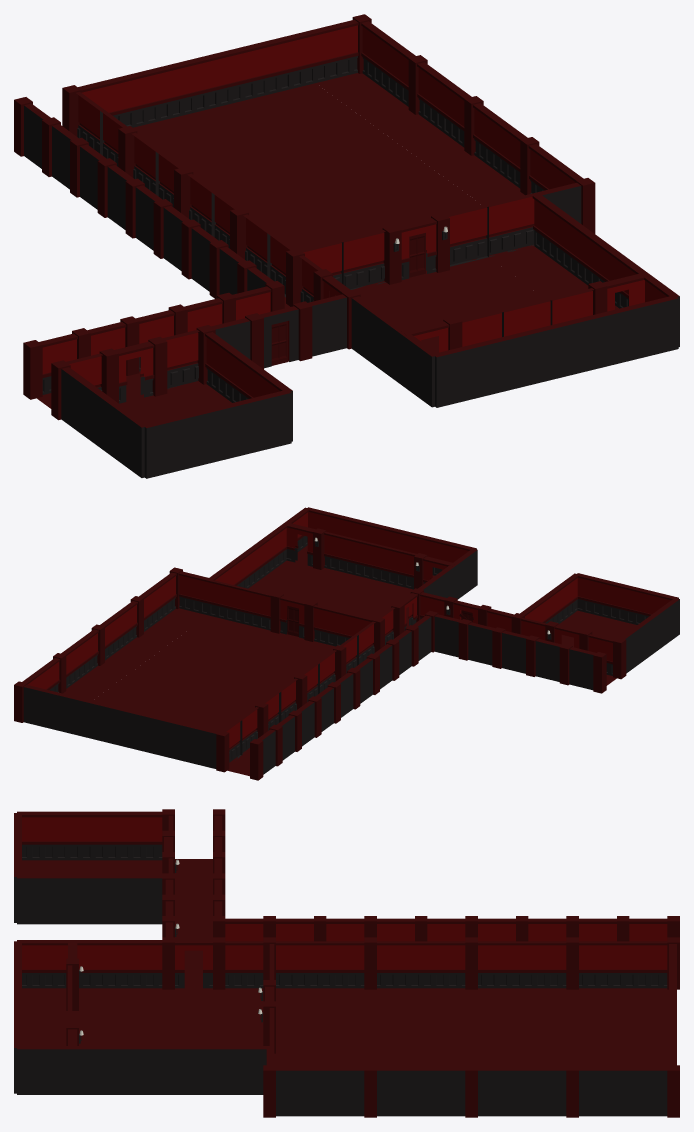
The model's file is PuzzlePortaJoin.glb.
3 views of the same model, one above another, from view 1: azimuth 30°, elevation 25°; view 2: azimuth 150°, elevation 25°; view 3: azimuth 270°, elevation 25° (orthographic). The views are drawn at different scales.
Parts seen in each view (by area): view 1: ChaoSalao, ParedeSalao_001, ParedeCorredor_002, ParedeRecepcao_005, ParedeSalao_004, ParedeRecepcao_001, ChaoRecepcao, ParedeSalao_002, ParedeSaveRoom_003, ParedeCorredor_001, ParedeQuartoTrancado_001, ParedeRecepcao_004 (+10 smaller); view 2: ChaoSalao, ParedeSalao_001, ParedeCorredor_002, ParedeCorredor_001, ParedeSalao_004, ParedeRecepcao_001, ParedeRecepcao_004, ChaoRecepcao, ParedeSalao_002, ParedeRecepcao_005, ParedeSaveRoom_003, ParedeRecepcao_007 (+10 smaller); view 3: ChaoSalao, ParedeSalao_004, ParedeSalao_002, ChaoRecepcao, ParedeCorredor_002, ParedeRecepcao_007, ParedeRecepcao_002, ParedeSaveRoom_004, ParedeSaveRoom_002, ChaoCorredor, ParedeRecepcao_006, ChaoSaveRoom (+10 smaller).
Boxes of the visible parts, <box> form: ChaoSalao: <box>133,73,533,289</box>; ParedeSalao_001: <box>62,14,371,136</box>; ParedeCorredor_002: <box>14,97,284,311</box>; ParedeRecepcao_005: <box>434,295,678,407</box>; ParedeSalao_004: <box>361,21,583,195</box>; ParedeRecepcao_001: <box>300,193,536,289</box>; ChaoRecepcao: <box>335,246,618,352</box>; ParedeSalao_002: <box>76,92,294,297</box>; ParedeSaveRoom_003: <box>143,389,291,478</box>; ParedeCorredor_001: <box>23,286,271,399</box>; ParedeQuartoTrancado_001: <box>196,294,346,384</box>; ParedeRecepcao_004: <box>402,272,648,352</box>; ChaoSalao: <box>63,608,335,764</box>; ParedeSalao_001: <box>14,681,229,772</box>; ParedeCorredor_002: <box>250,611,438,780</box>; ParedeCorredor_001: <box>434,614,606,693</box>; ParedeSalao_004: <box>22,572,176,693</box>; ParedeRecepcao_001: <box>208,579,372,646</box>; ParedeRecepcao_004: <box>284,522,455,589</box>; ChaoRecepcao: <box>248,545,434,632</box>; ParedeSalao_002: <box>223,621,375,762</box>; ParedeRecepcao_005: <box>305,507,476,575</box>; ParedeSaveRoom_003: <box>575,573,678,624</box>; ParedeRecepcao_007: <box>208,522,287,588</box>; ChaoSalao: <box>274,988,668,1067</box>; ParedeSalao_004: <box>276,1065,667,1117</box>; ParedeSalao_002: <box>276,937,667,989</box>; ChaoRecepcao: <box>22,987,263,1045</box>; ParedeCorredor_002: <box>213,916,679,941</box>; ParedeRecepcao_007: <box>67,1046,269,1094</box>; ParedeRecepcao_002: <box>67,937,263,989</box>; ParedeSaveRoom_004: <box>17,875,162,924</box>; ParedeSaveRoom_002: <box>17,811,162,860</box>; ChaoCorredor: <box>175,859,212,986</box>; ParedeRecepcao_006: <box>17,1046,67,1094</box>; ChaoSaveRoom: <box>22,860,162,875</box>.
Bounding box in the file's own units: 49 × 4.13 × 52.75.
